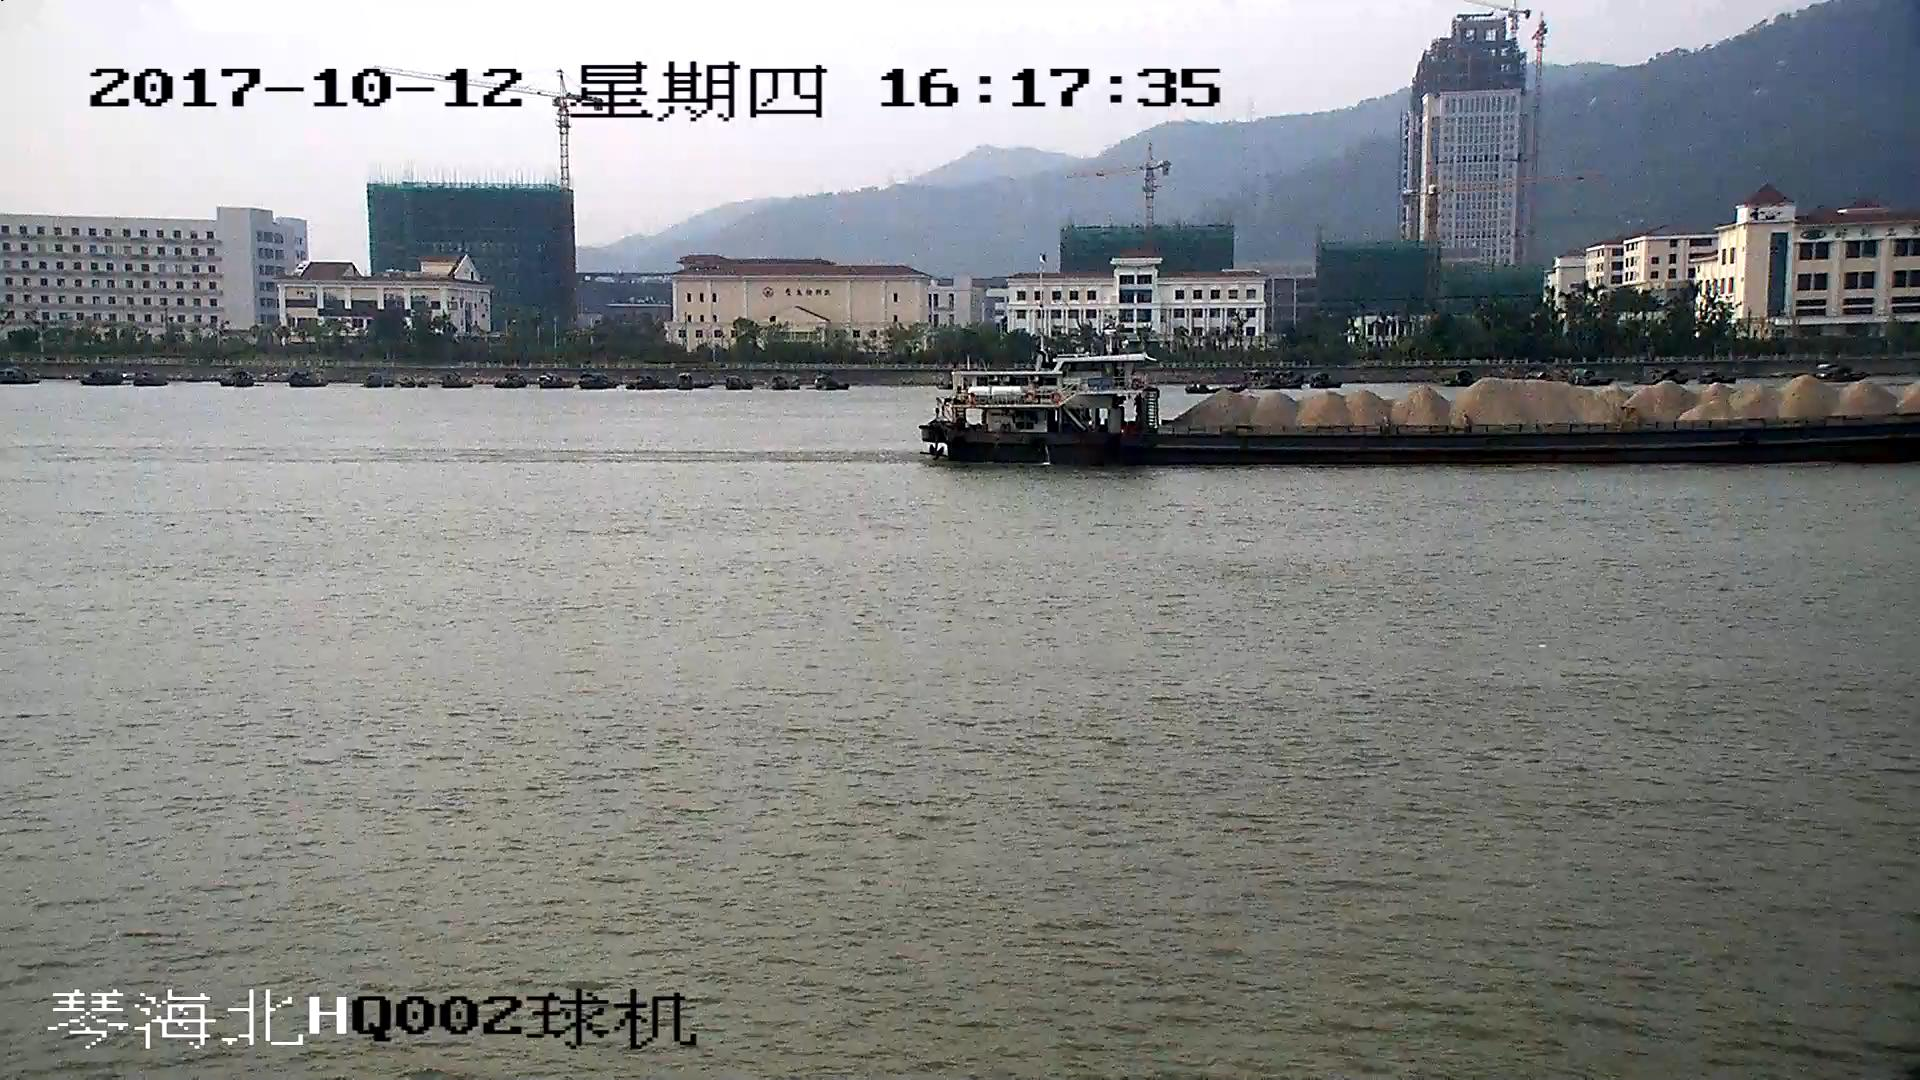ore carrier: (927, 358, 1920, 466)
